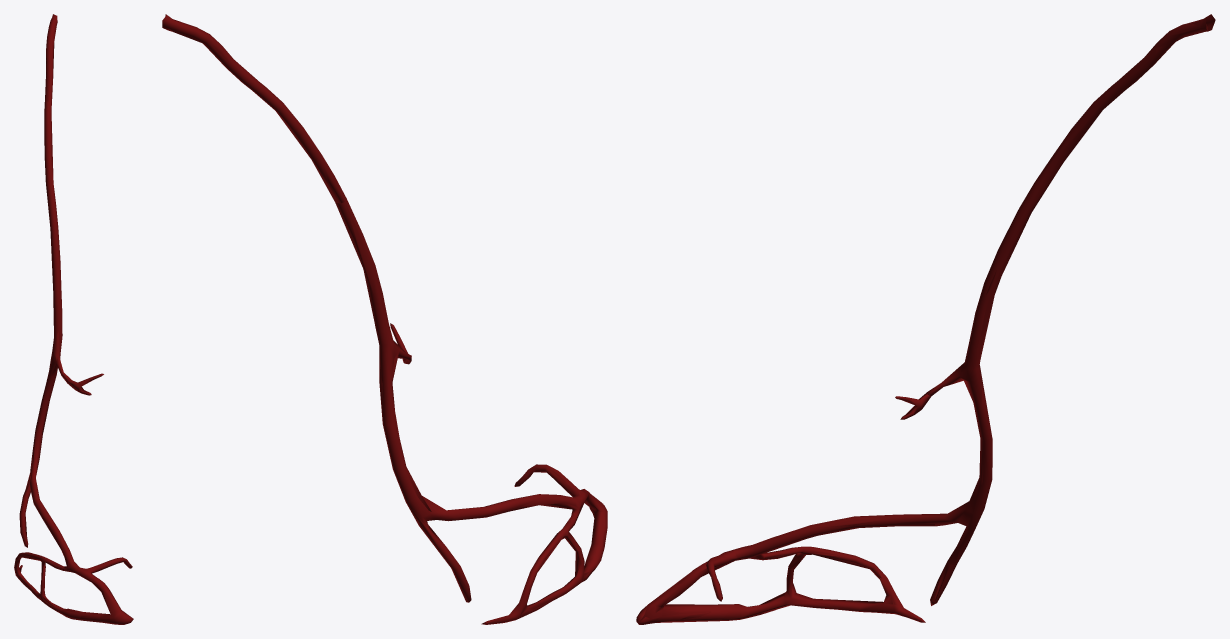
The model's file is RB digitales lateralis.fbx.
The picture shows the model from 3 angles, left to right: view 1: azimuth 30°, elevation 25°; view 2: azimuth 150°, elevation 25°; view 3: azimuth 270°, elevation 25°; orthographic projection. The views are drawn at different scales.
Parts seen in each view (by area): view 1: RB digitales lateralis, RB digitales lateralis low; view 2: RB digitales lateralis, RB digitales lateralis low; view 3: RB digitales lateralis, RB digitales lateralis low.
Boxes of the visible parts, left/top/right/bottom form: RB digitales lateralis: left=14, top=14, right=133, bottom=624; RB digitales lateralis low: left=14, top=16, right=131, bottom=623; RB digitales lateralis: left=162, top=14, right=607, bottom=624; RB digitales lateralis low: left=163, top=14, right=605, bottom=616; RB digitales lateralis: left=636, top=14, right=1215, bottom=624; RB digitales lateralis low: left=639, top=16, right=1213, bottom=623.
Size of the model in its own units: 3.79 by 10.95 by 8.11.
